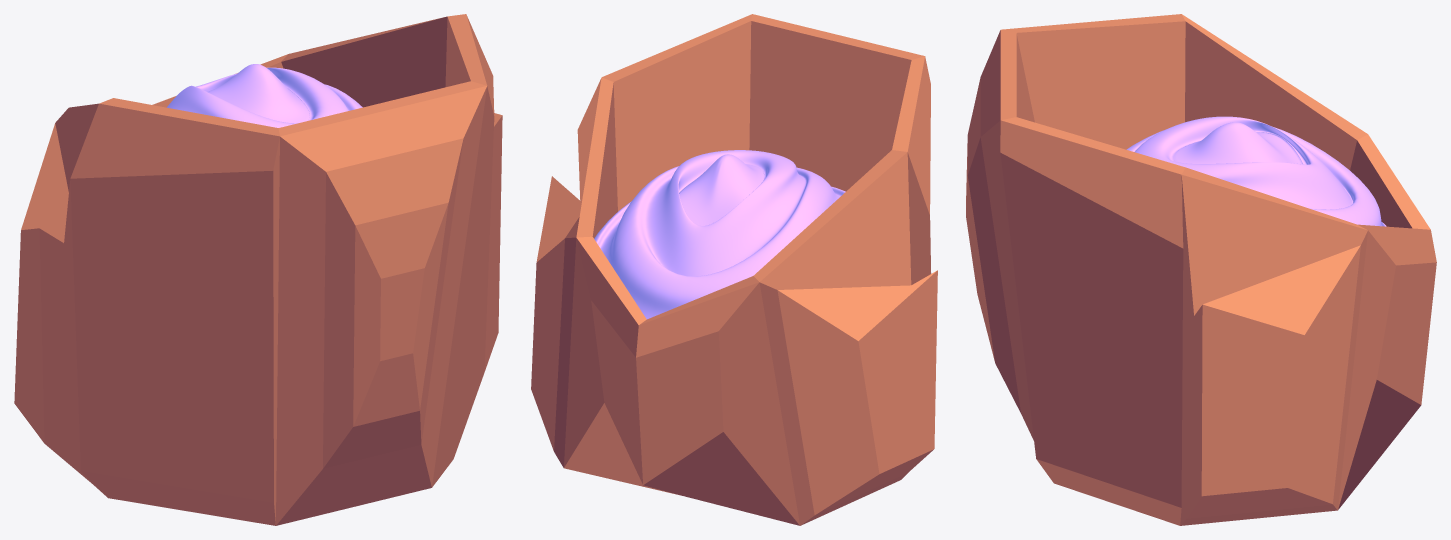
File: lilac.fbx
The picture shows the model from 3 angles, left to right: view 1: azimuth 30°, elevation 25°; view 2: azimuth 150°, elevation 25°; view 3: azimuth 270°, elevation 25°; orthographic projection. The views are drawn at different scales.
Parts seen in each view (by area): view 1: Cylinder, Cylinder.001; view 2: Cylinder, Cylinder.001; view 3: Cylinder, Cylinder.001.
Part boxes in pixels (<box>): Cylinder: <box>14,14,502,525</box>; Cylinder.001: <box>167,64,362,127</box>; Cylinder: <box>531,14,937,525</box>; Cylinder.001: <box>594,150,845,319</box>; Cylinder: <box>966,14,1436,525</box>; Cylinder.001: <box>1126,116,1386,226</box>.
Bounding box in the file's own units: 258 × 222 × 253.
